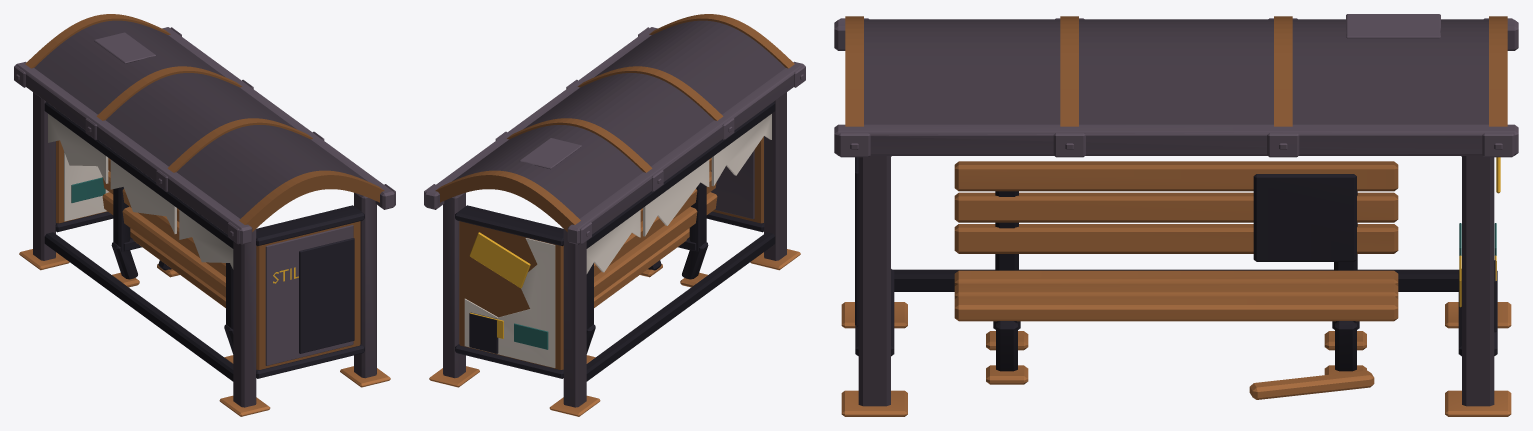
The picture shows the model from 3 angles, left to right: view 1: azimuth 30°, elevation 25°; view 2: azimuth 150°, elevation 25°; view 3: azimuth 270°, elevation 25°; orthographic projection. The views are drawn at different scales.
Visible parts, largest first — view 1: roof_pal_asphalt, body_pal_uiDark, body_pal_asphalt, body_pal_woodWarm, roof_pal_woodWarm, body_pal_picketWhite, body_pal_backpackTeal; view 2: roof_pal_asphalt, body_pal_woodWarm, body_pal_asphalt, body_pal_uiDark, body_pal_picketWhite, roof_pal_woodWarm, body_pal_schoolBusYellow, body_pal_backpackTeal; view 3: roof_pal_asphalt, body_pal_woodWarm, body_pal_uiDark, body_pal_asphalt, roof_pal_woodWarm.
Boxes of the visible parts, left/top/right/bottom form: roof_pal_asphalt: left=14, top=20, right=395, bottom=244; body_pal_uiDark: left=44, top=102, right=364, bottom=381; body_pal_asphalt: left=33, top=92, right=376, bottom=407; body_pal_woodWarm: left=19, top=140, right=390, bottom=416; roof_pal_woodWarm: left=25, top=14, right=384, bottom=231; body_pal_picketWhite: left=48, top=114, right=233, bottom=269; body_pal_backpackTeal: left=71, top=177, right=105, bottom=202; roof_pal_asphalt: left=424, top=20, right=805, bottom=244; body_pal_woodWarm: left=429, top=136, right=800, bottom=416; body_pal_asphalt: left=443, top=92, right=786, bottom=407; body_pal_uiDark: left=455, top=102, right=775, bottom=381; body_pal_picketWhite: left=464, top=114, right=771, bottom=367; roof_pal_woodWarm: left=435, top=14, right=794, bottom=231; body_pal_schoolBusYellow: left=469, top=232, right=530, bottom=338; body_pal_backpackTeal: left=514, top=323, right=548, bottom=349; roof_pal_asphalt: left=834, top=14, right=1518, bottom=157; body_pal_woodWarm: left=841, top=161, right=1511, bottom=416; body_pal_uiDark: left=855, top=156, right=1497, bottom=371; body_pal_asphalt: left=858, top=156, right=1494, bottom=406; roof_pal_woodWarm: left=845, top=16, right=1507, bottom=126.
Bounding box in the file's own units: 2.04 × 2.67 × 4.97.
